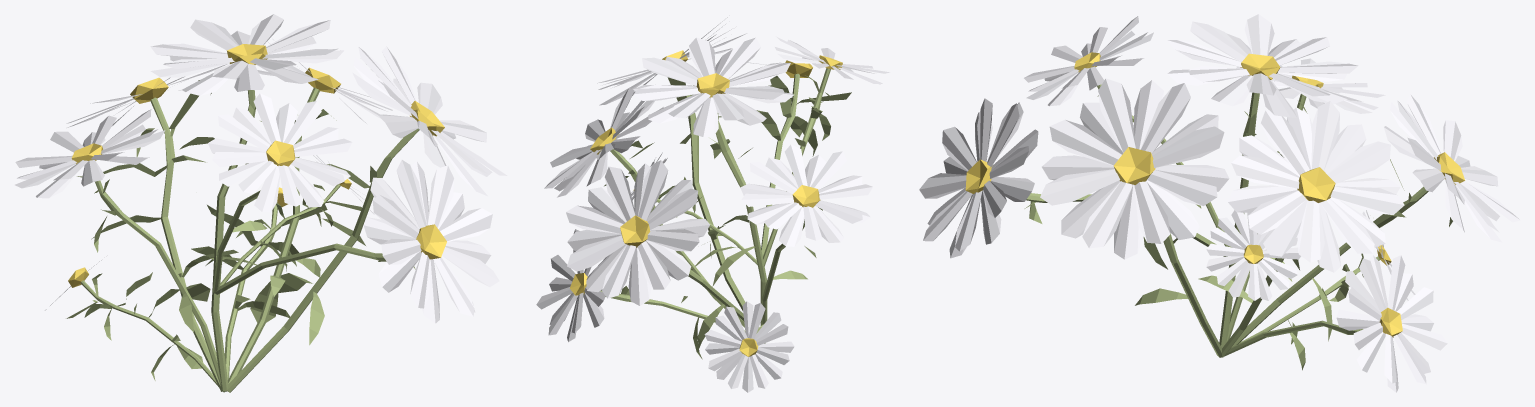
The model's file is margarita.glb.
3 renders of one model, left to right at view 1: azimuth 30°, elevation 25°; view 2: azimuth 150°, elevation 25°; view 3: azimuth 270°, elevation 25°, orthographic. The views are drawn at different scales.
Parts seen in each view (by area): view 1: Object_8, Object_7, Object_9; view 2: Object_8, Object_7, Object_9; view 3: Object_8, Object_7, Object_9.
Boxes of the visible parts, x1,y1,x2,y2 form: Object_8: [15, 14, 507, 323]; Object_7: [66, 80, 419, 392]; Object_9: [68, 44, 446, 287]; Object_8: [536, 17, 889, 392]; Object_7: [600, 68, 851, 359]; Object_9: [570, 50, 842, 356]; Object_8: [919, 14, 1520, 392]; Object_7: [1024, 84, 1452, 370]; Object_9: [965, 52, 1465, 337].
Bounding box in the file's own units: 2.23 × 1.86 × 2.99.
